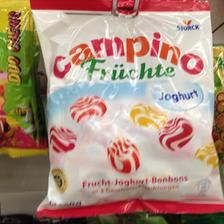Suessigkeit: (35, 6, 219, 214)
